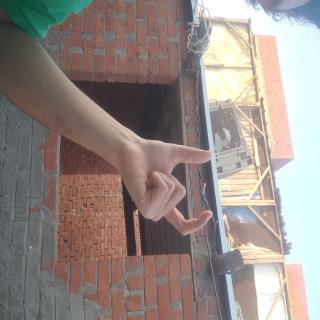NOON: (98, 135, 181, 274)
